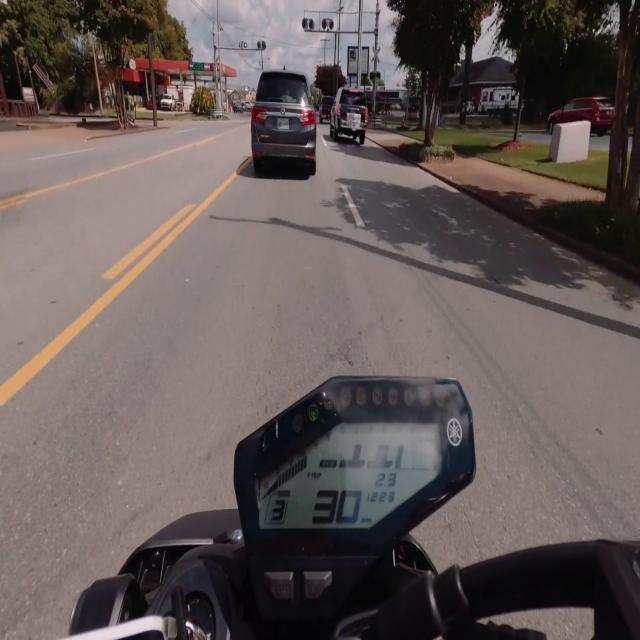car: (251, 70, 316, 175), (548, 98, 613, 136), (330, 88, 368, 145), (320, 96, 333, 123)
motorcycle: (69, 378, 639, 639)
